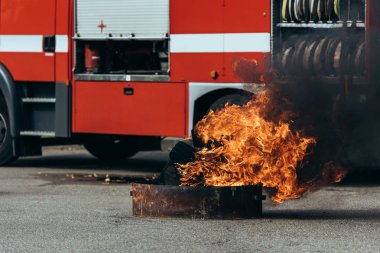fire: (196, 104, 310, 193)
